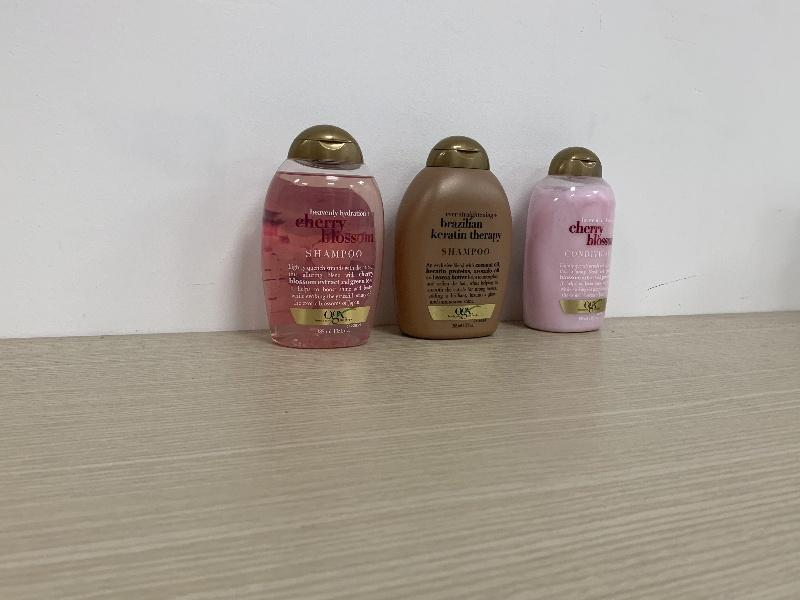BrazilianKeratinTherapy_Shampoo: (394, 135, 513, 340)
CherryBlossom_Conditioner: (523, 146, 616, 332)
CherryBlossom_Shampoo: (261, 125, 385, 349)
